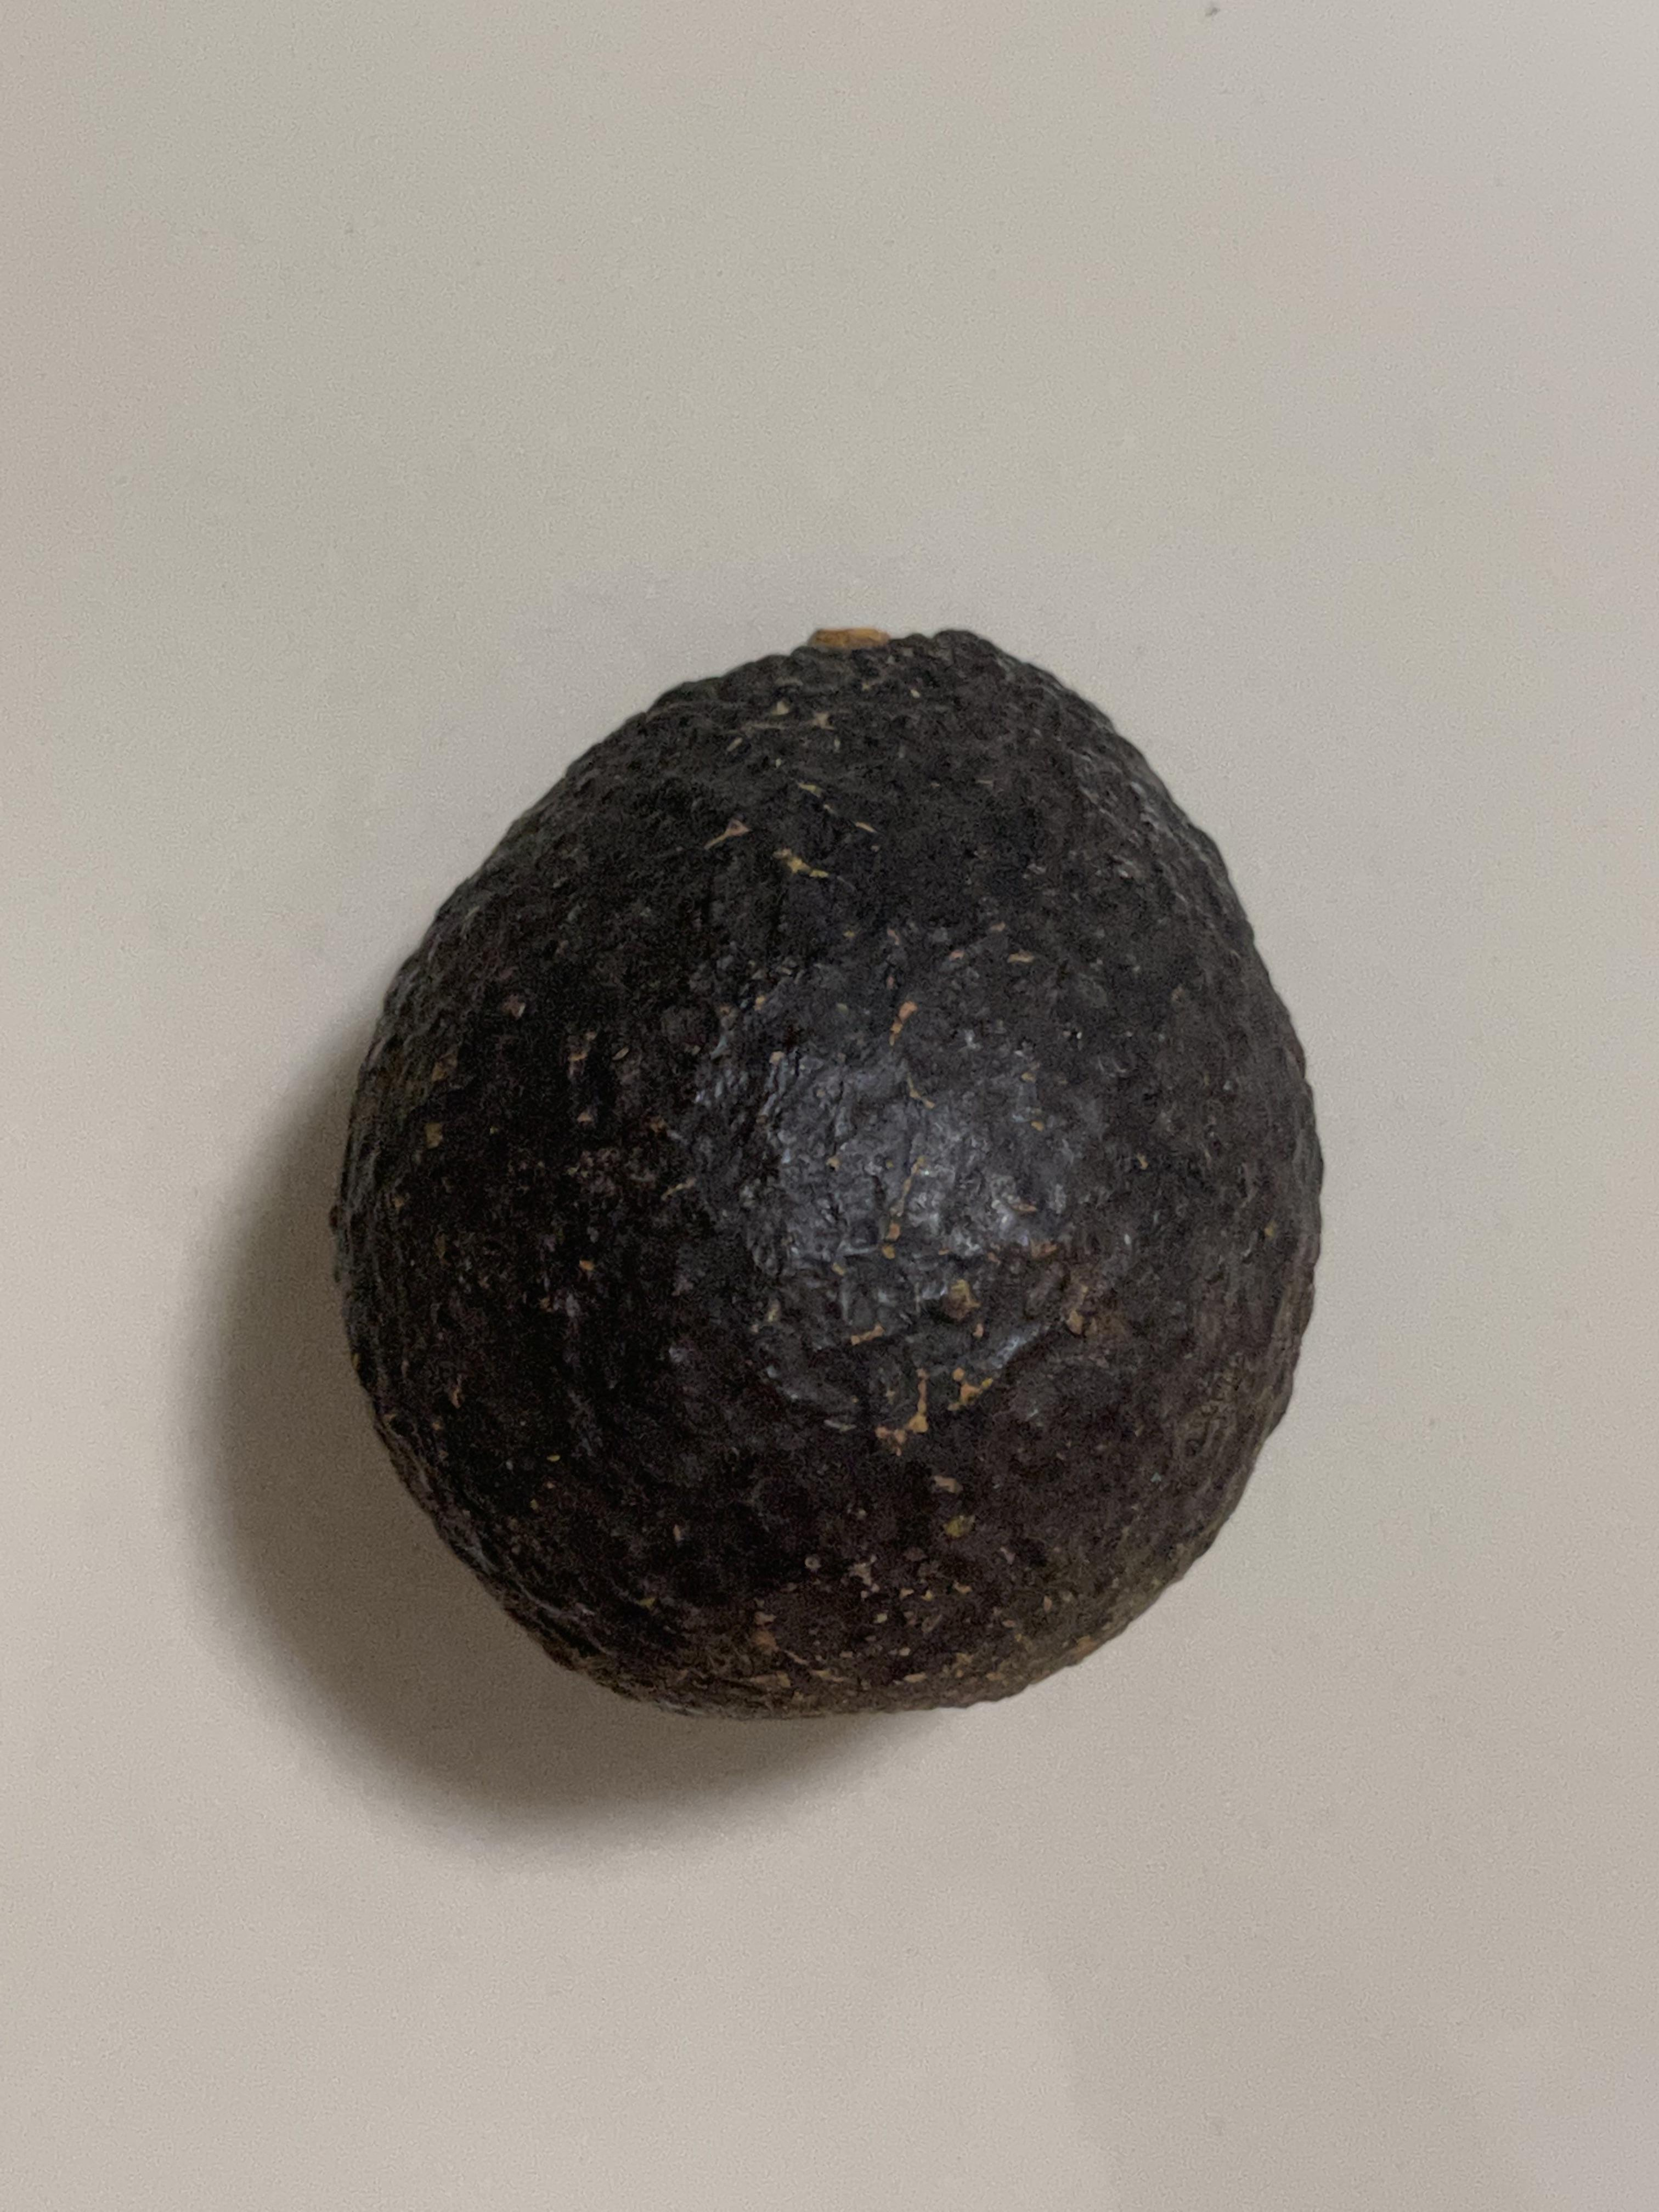Level3: (307, 603, 1352, 1743)
